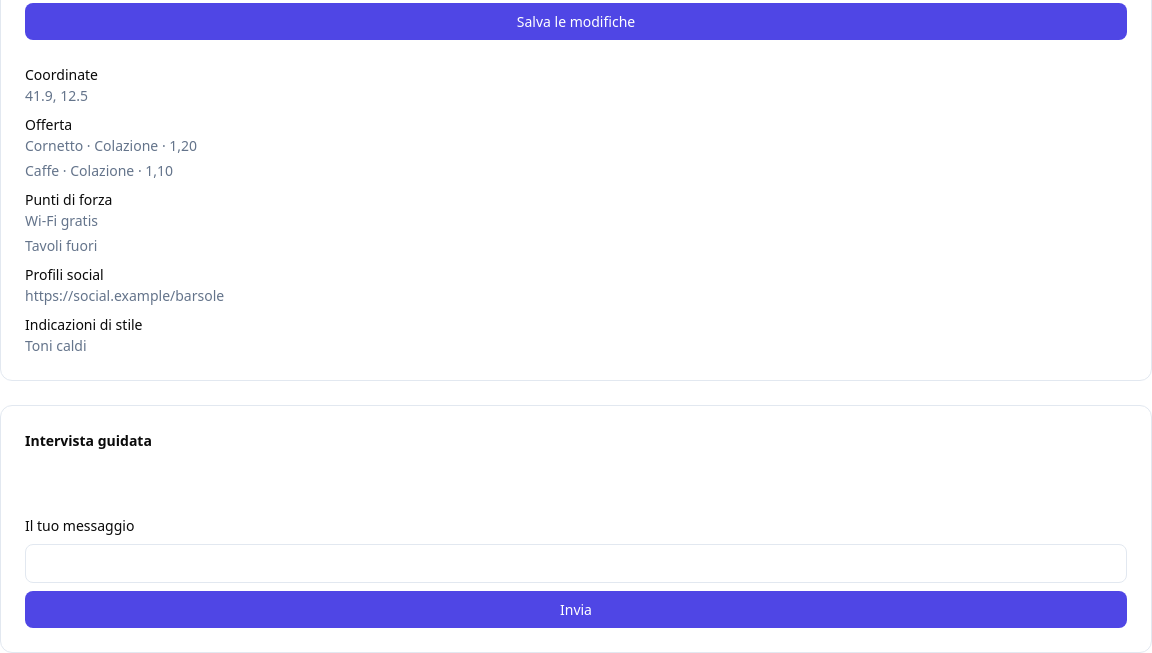
Test: T-151 ChatPanel: turni assistente/utente › chunk con readyForReview true e complete false: la UI segue il chunk, non i dati
(page scrolled)
Step 1. Type "Ciao" into the field labelled "Il tuo messaggio" → (576, 564), box [25,544,1127,583]
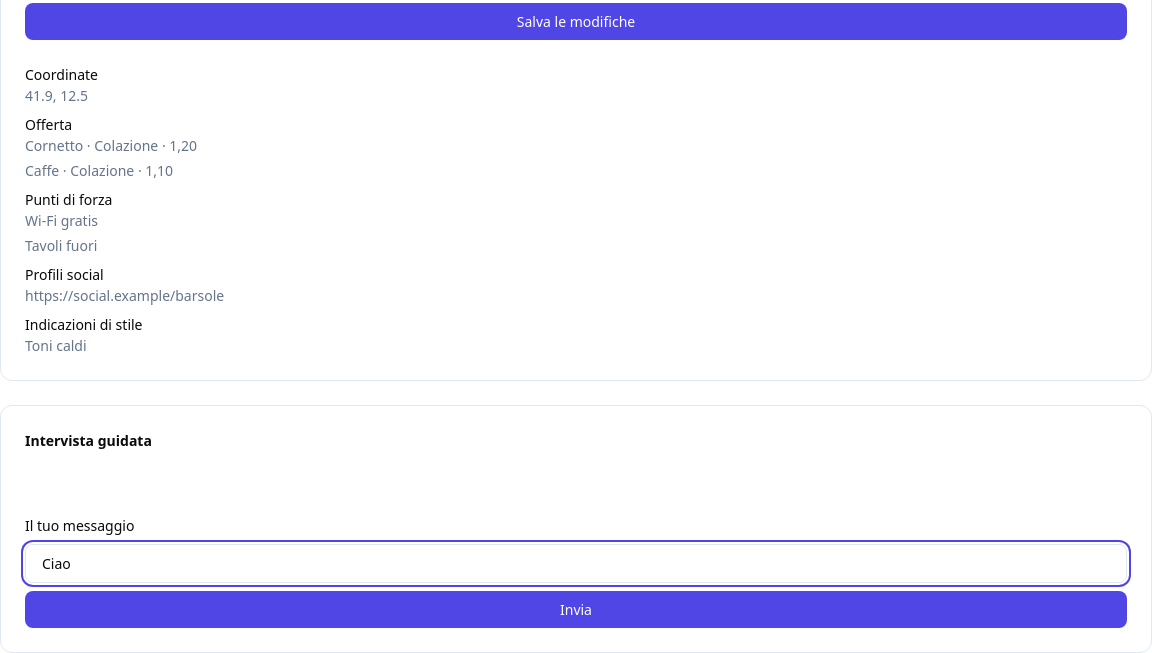
Step 2. Click the button "Invia" → (576, 610), box [25,591,1127,628]
(page scrolled)
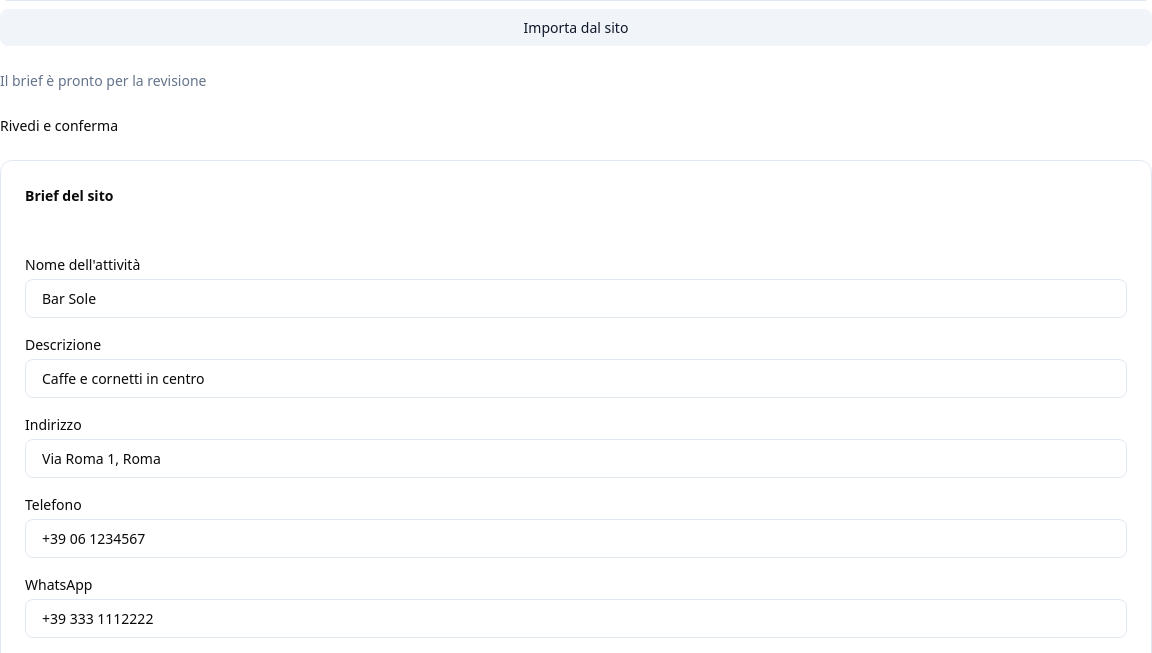
Expected: the text "Il brief è pronto per la revisione" is shown, [0,71,206,90]
